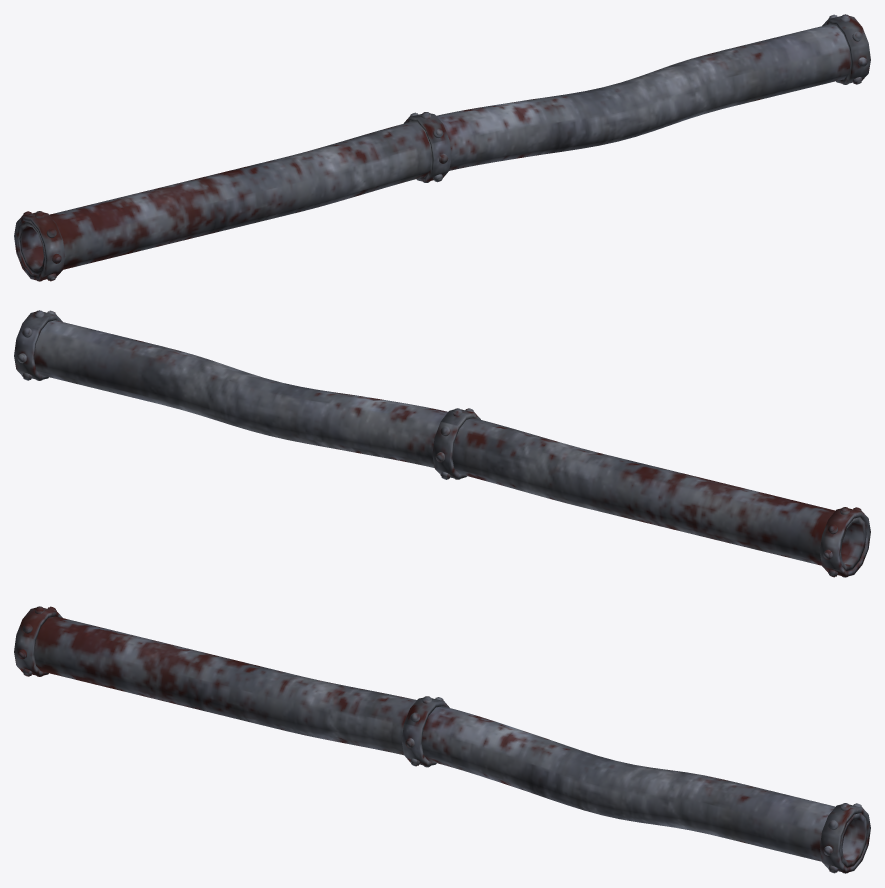
File: large pipe dented.fbx
3 renders of one model, top to bottom at view 1: azimuth 30°, elevation 25°; view 2: azimuth 150°, elevation 25°; view 3: azimuth 330°, elevation 25°, orthographic.
Visible parts, largest first — view 1: NurbsPath.010; view 2: NurbsPath.010; view 3: NurbsPath.010.
Boxes of the visible parts, x1,y1,x2,y2 form: NurbsPath.010: [14, 14, 870, 281]; NurbsPath.010: [14, 310, 870, 577]; NurbsPath.010: [14, 606, 870, 873].
Size of the model in its own units: 1481 by 124 by 118.
